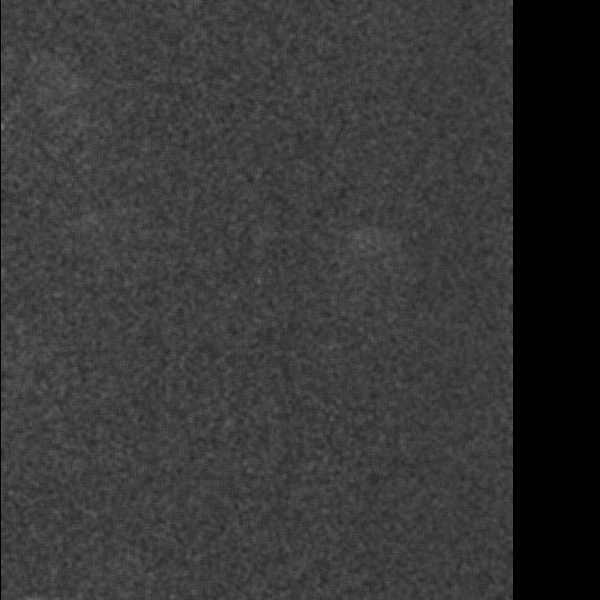spark: (354, 225, 372, 256)
